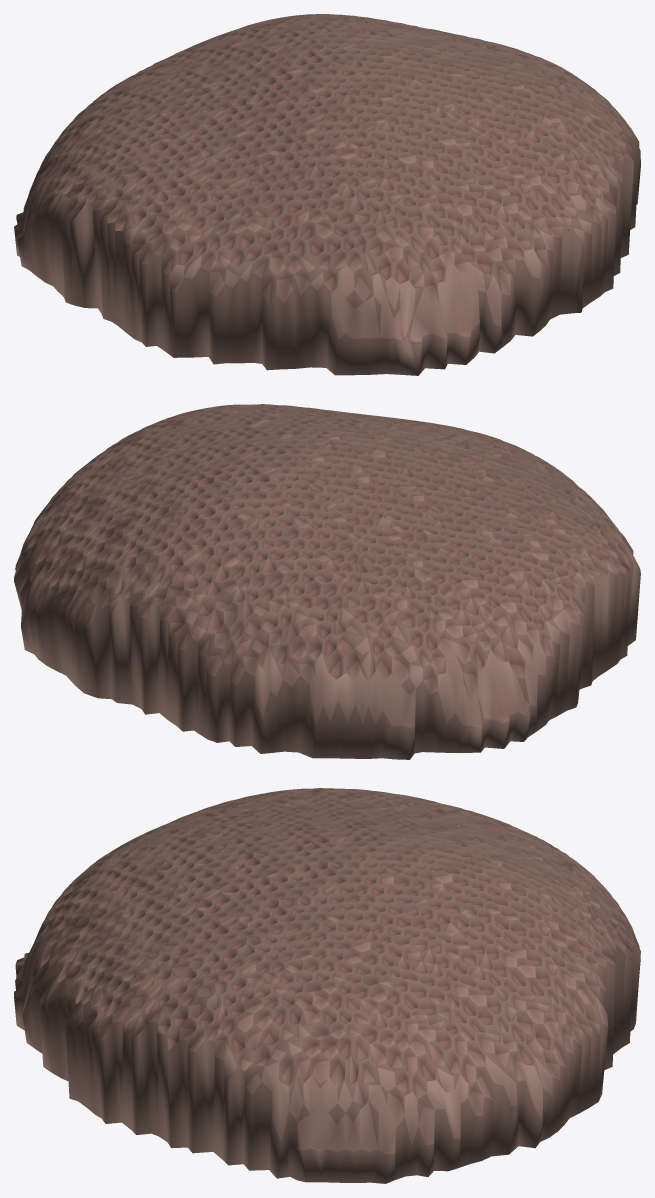
Rendered from massive-tabulate-coral-v2.lod1.glb.
3 views of the same model, one above another, from view 1: azimuth 30°, elevation 25°; view 2: azimuth 150°, elevation 25°; view 3: azimuth 270°, elevation 25° (orthographic). The views are drawn at different scales.
Visible parts, largest first — view 1: massive-tabulate-coral-v2; view 2: massive-tabulate-coral-v2; view 3: massive-tabulate-coral-v2.
Part boxes in pixels (x1,y1,x2,y2): massive-tabulate-coral-v2: (14,14,640,375); massive-tabulate-coral-v2: (14,404,640,759); massive-tabulate-coral-v2: (14,788,640,1183).
Bounding box in the file's own units: 0.2833 × 0.0929 × 0.2629.
